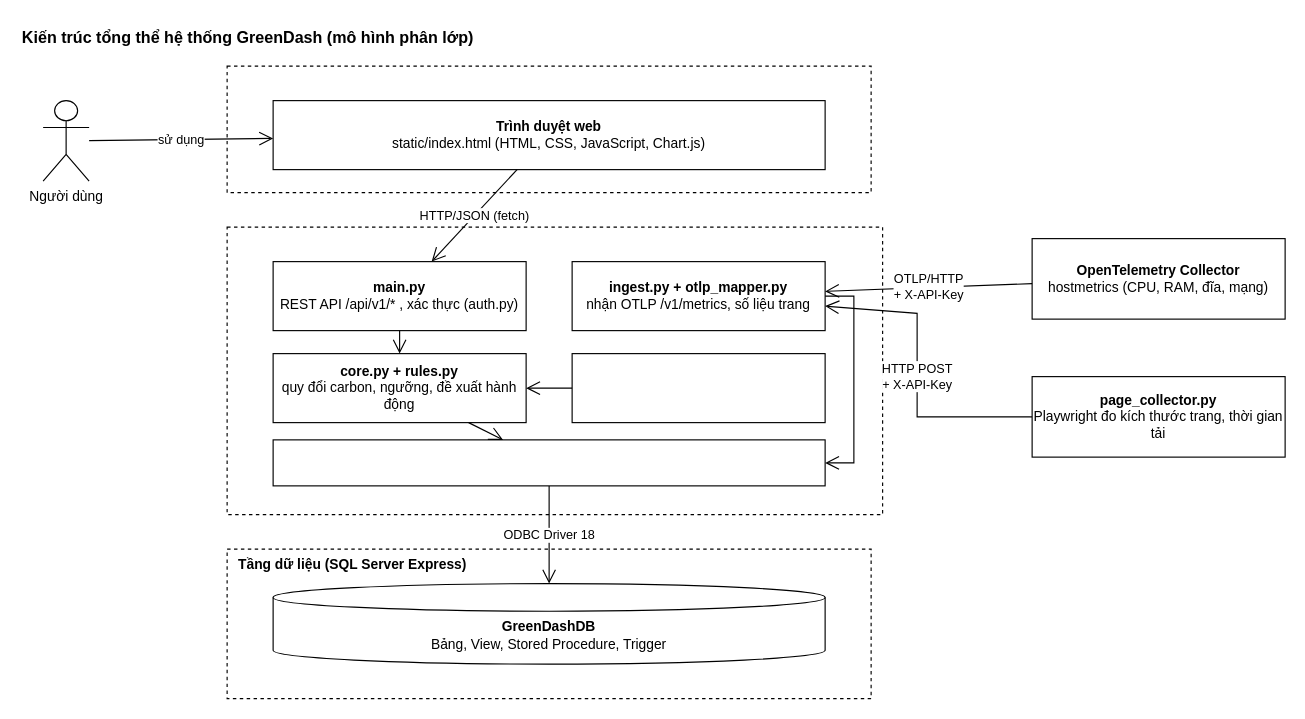
This 1305x719 diagram has some shape labels left out. The shapes that lost their labels are listed below. From the top down, each one's box as (x1, y1, x2, y2) in pixels, then its label:
(226, 65, 871, 193): Tầng trình bày (Presentation)
(226, 226, 883, 515): Tầng ứng dụng (FastAPI - backend/)
(571, 352, 825, 423): jobs.py (APScheduler) chạy định kỳ: quy đổi, kiểm tra ngưỡng
(272, 439, 825, 486): db.py (pyodbc)
